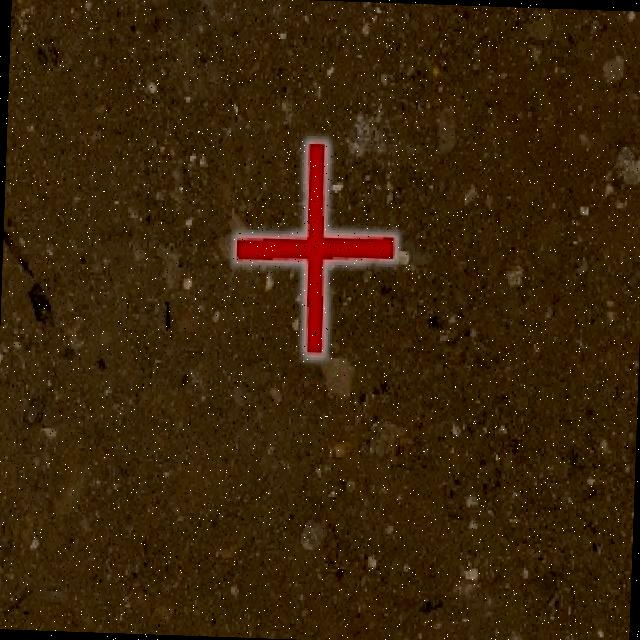x_marker: (232, 140, 397, 356)
